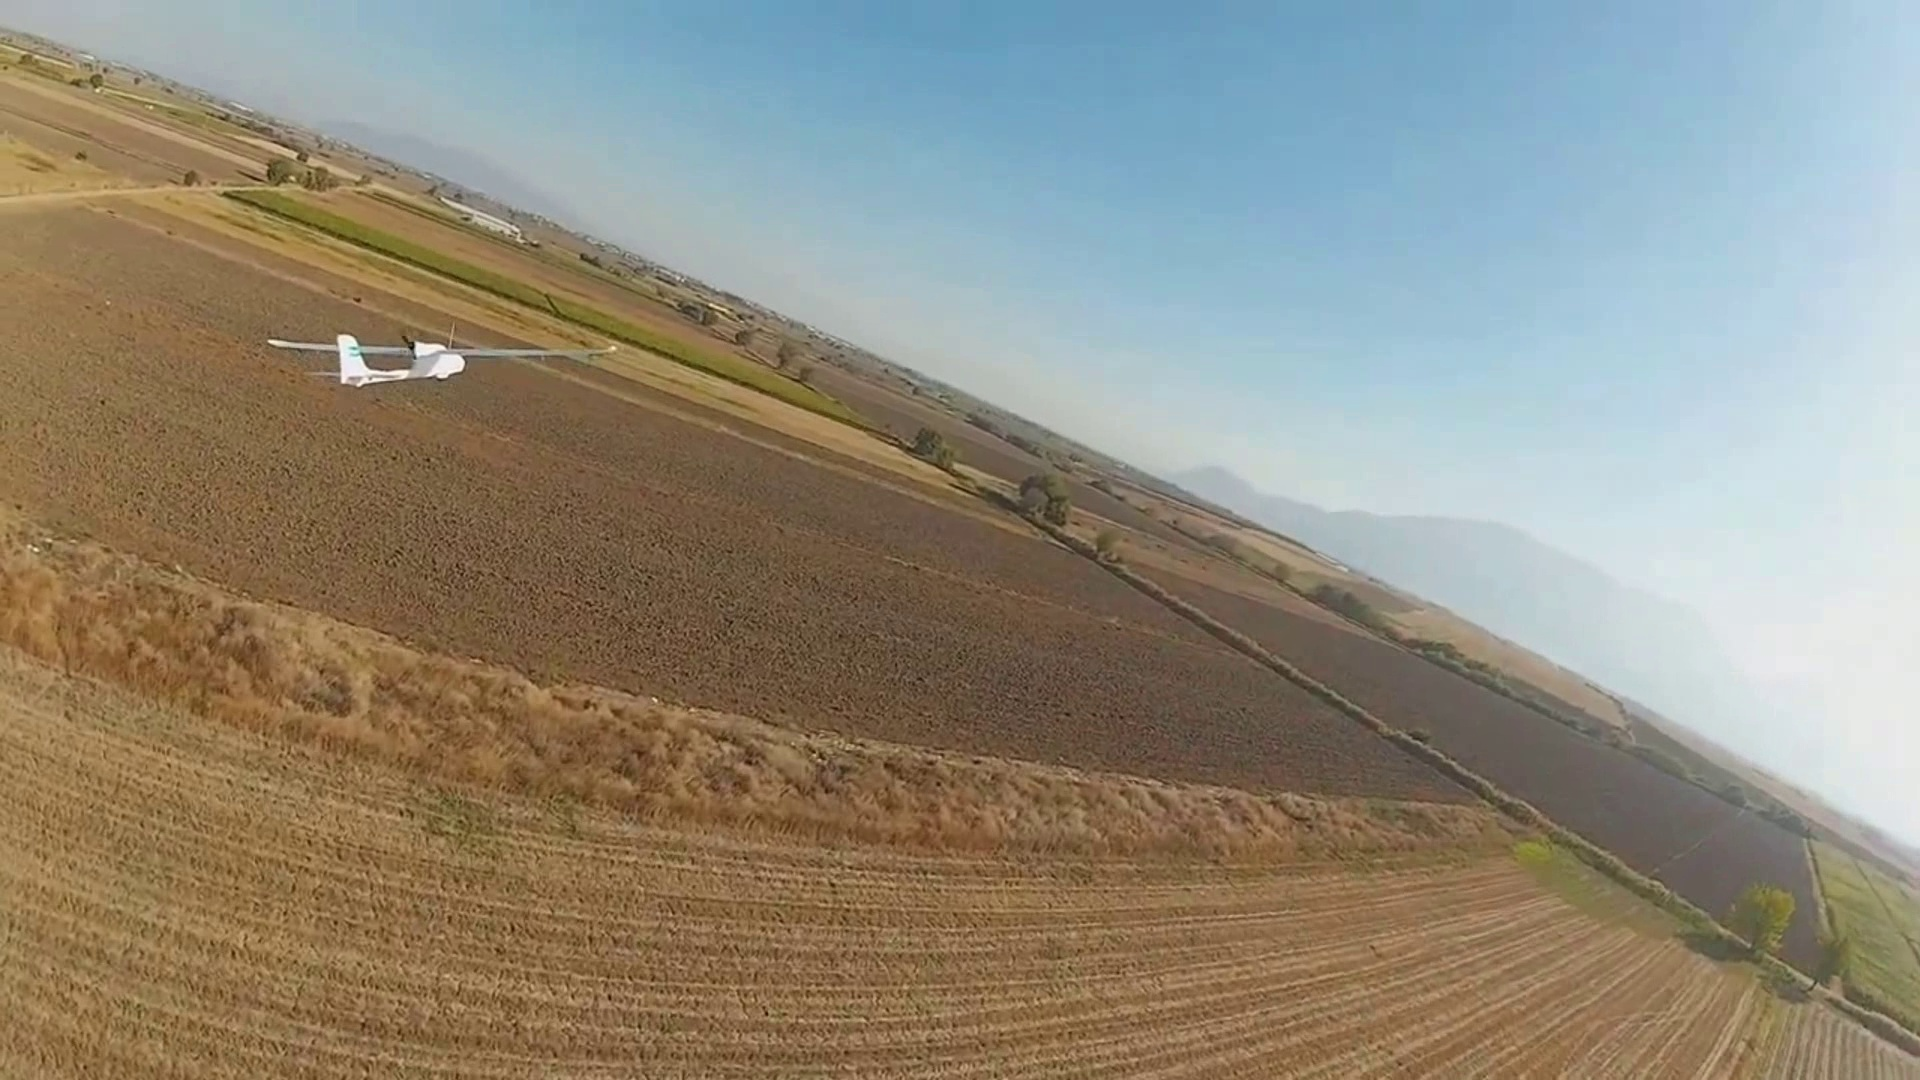airplane: (263, 331, 466, 385)
